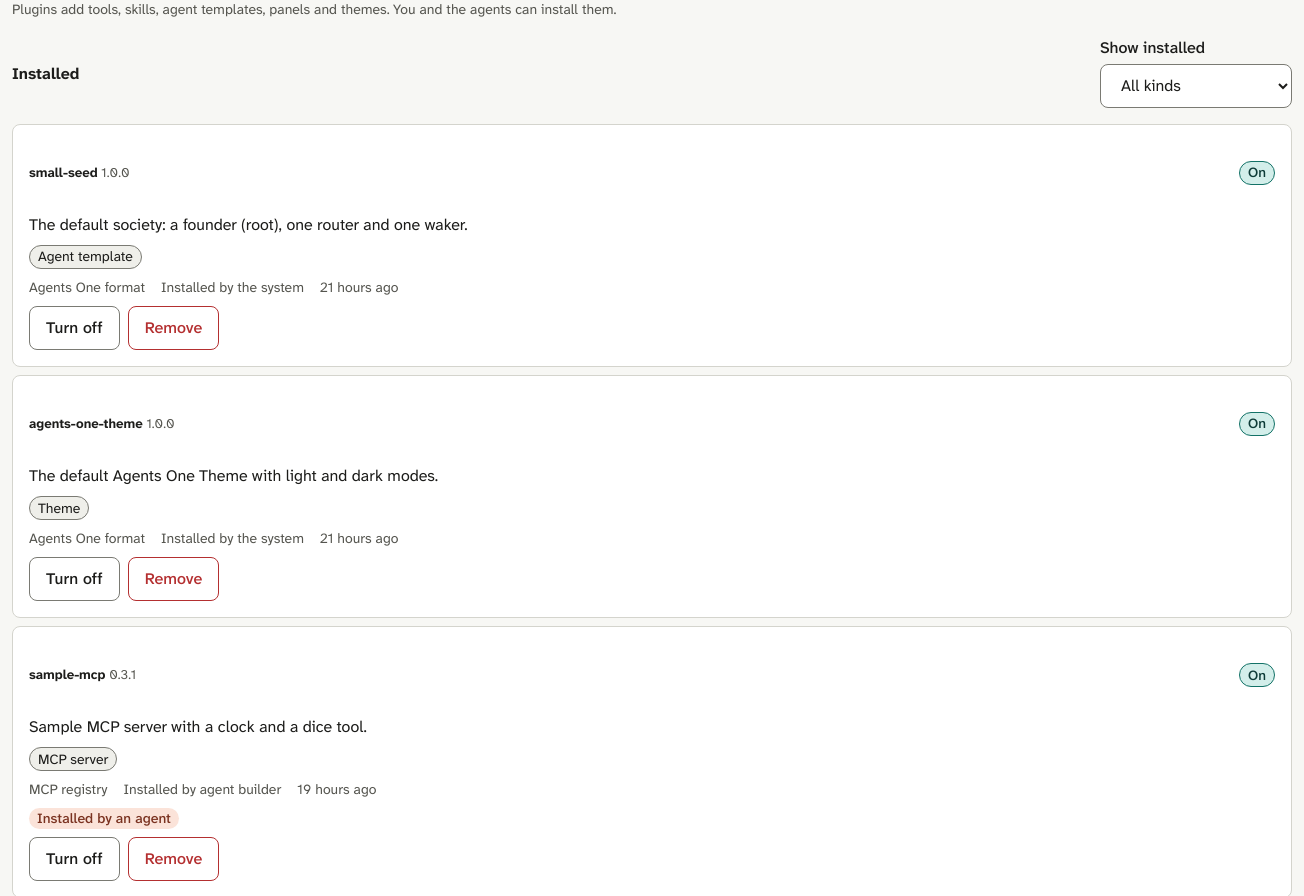
Scenario: Plugins panel, installed › shows the daemon's reason on the plugin when a change fails
Click the button with aria-label "Turn off sample-mcp".
click(74, 859)  # box [29, 837, 120, 881]
(page scrolled)
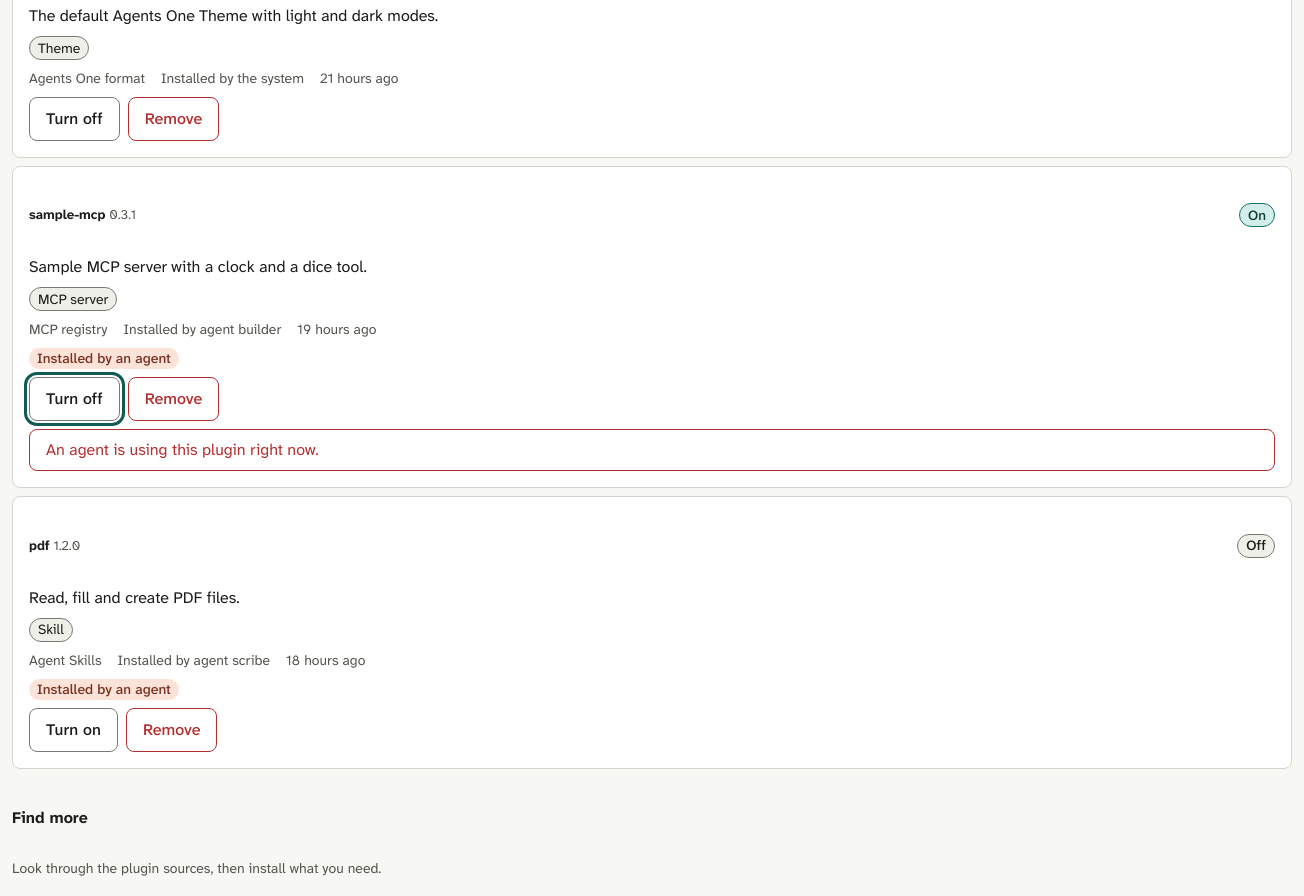
Expected: the message reads "An agent is using this plugin right now.", [46, 439, 319, 460]
